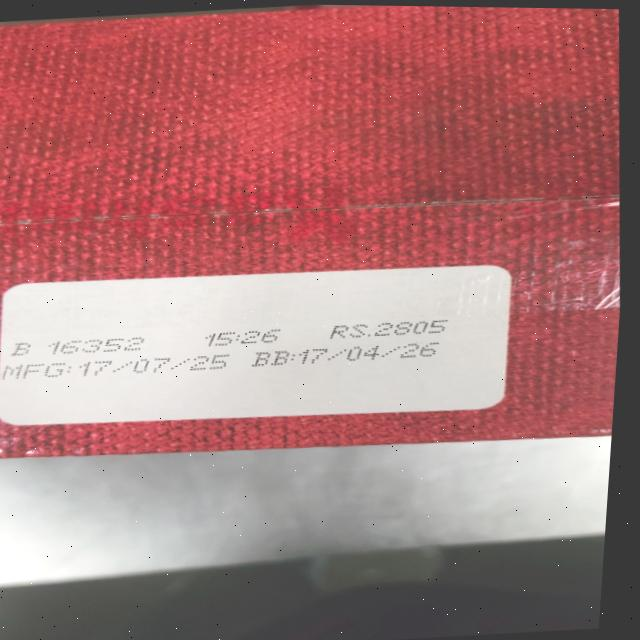BB: (249, 338, 442, 371)
Batch: (7, 334, 147, 359)
MFG: (0, 350, 231, 384)
RS: (328, 318, 447, 343)
TimeStamp: (200, 324, 285, 351)
